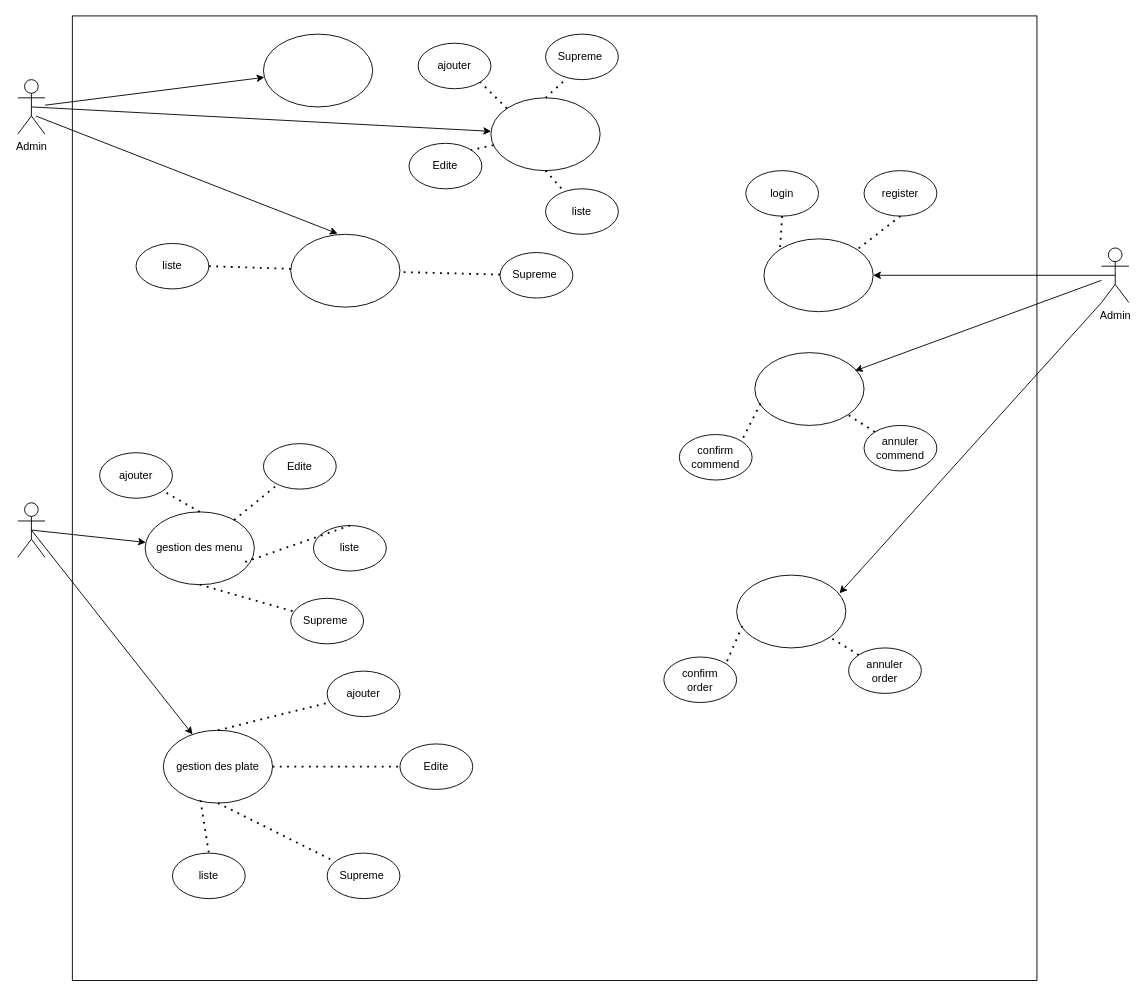
The diagram is 1146 pixels wide and 996 high, and some of its shapes have lost their labels. The shapes that lost their labels are listed below. From the top down, each one's box as (x1, y1, x2, y2) in pixels, then its label:
(263, 33, 373, 107): voir les statistiques
(490, 97, 600, 171): gestion des chefs
(290, 233, 400, 307): gestion des users
(763, 238, 873, 312): authintification
(754, 352, 864, 425): commend
(17, 502, 45, 557): chef
(736, 574, 846, 648): order
